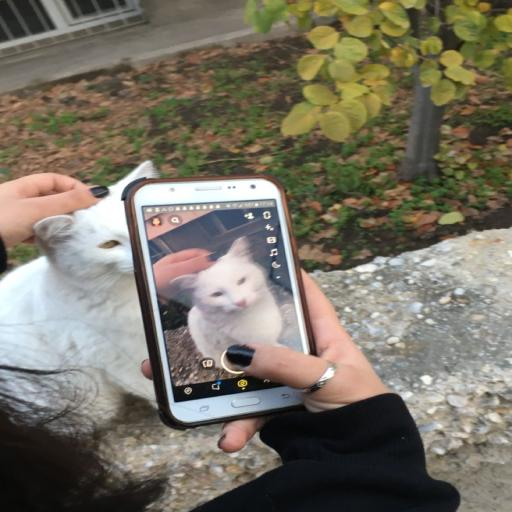curb: (122, 175, 319, 430)
